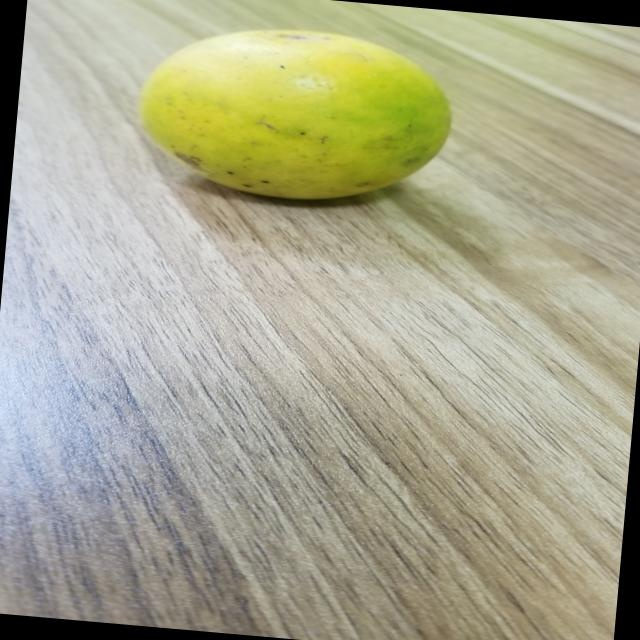agrume: (102, 8, 469, 222)
